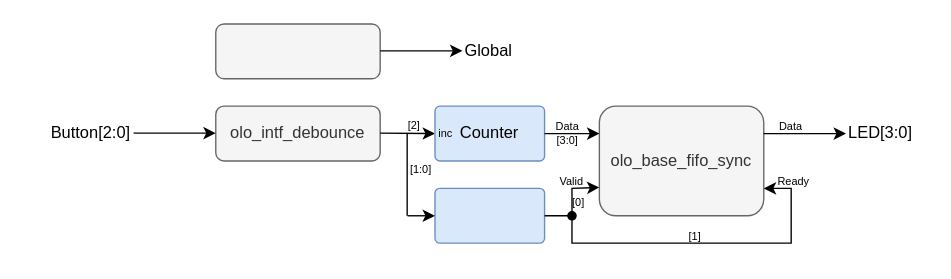
This 951x279 diagram has some shape labels left out. The centre of each missing label's shape, as x and y in pixels:
Edge Detect: (489,215)
olo_base_reset_gen: (297,51)
